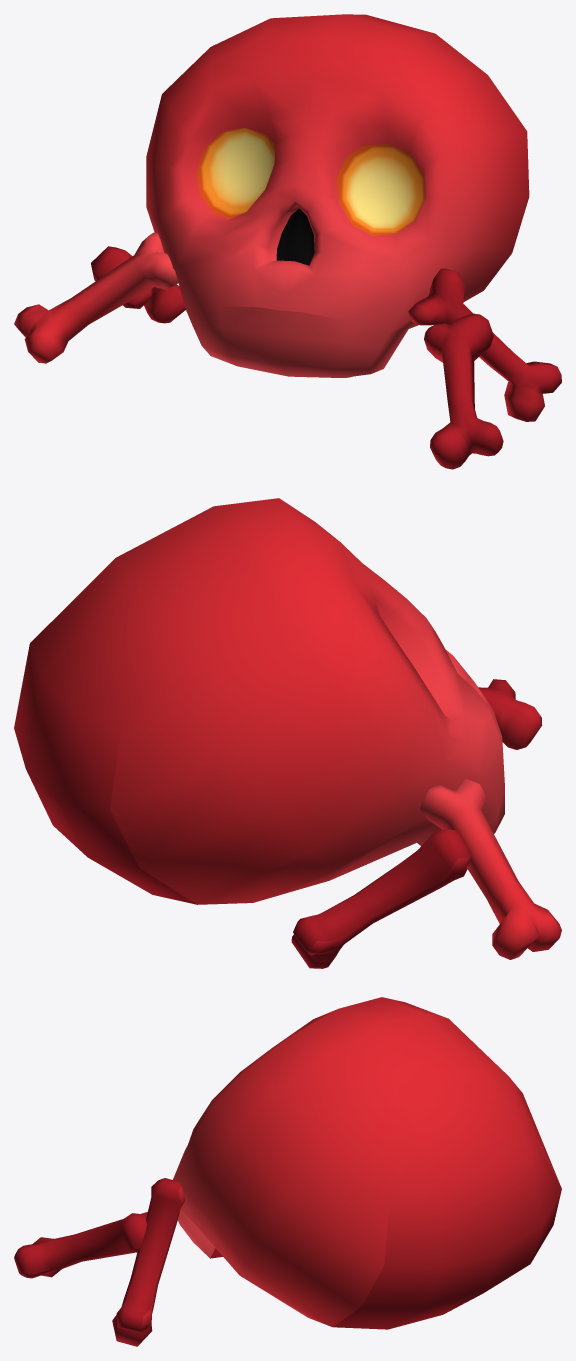
Rendered from Giant_Skull.fbx.
3 views of the same model, one above another, from view 1: azimuth 30°, elevation 25°; view 2: azimuth 150°, elevation 25°; view 3: azimuth 270°, elevation 25° (orthographic). The views are drawn at different scales.
Visible parts, largest first — view 1: Giant_Skull; view 2: Giant_Skull; view 3: Giant_Skull.
Boxes of the visible parts, box(x1,y1,x2,y2) form: Giant_Skull: box(14, 14, 561, 469); Giant_Skull: box(14, 498, 561, 968); Giant_Skull: box(14, 997, 561, 1346).
Bounding box in the file's own units: 209 × 136 × 227.
